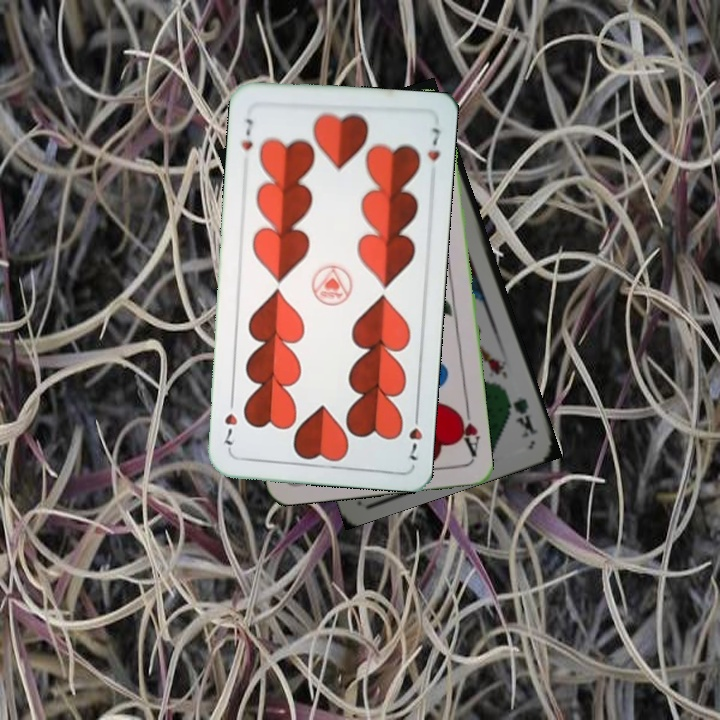GK: (509, 393, 541, 441)
H7: (405, 406, 425, 464), (237, 115, 256, 153)
HA: (452, 401, 482, 460)
